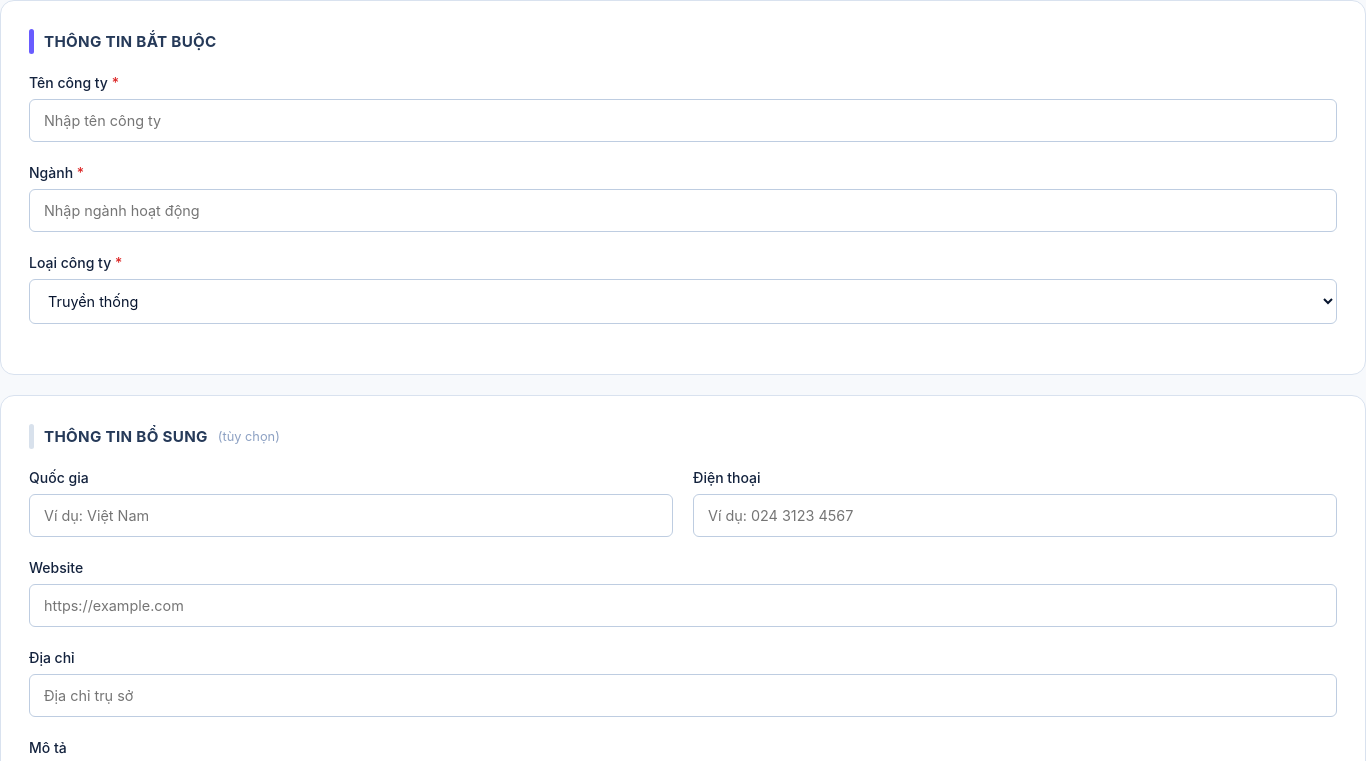
Test: CompanyForm › does not submit blank name and keeps entered industry
Type "Software" into the field labelled "Ngành *". click: (683, 210)
box: [29,189,1337,232]
(page scrolled)
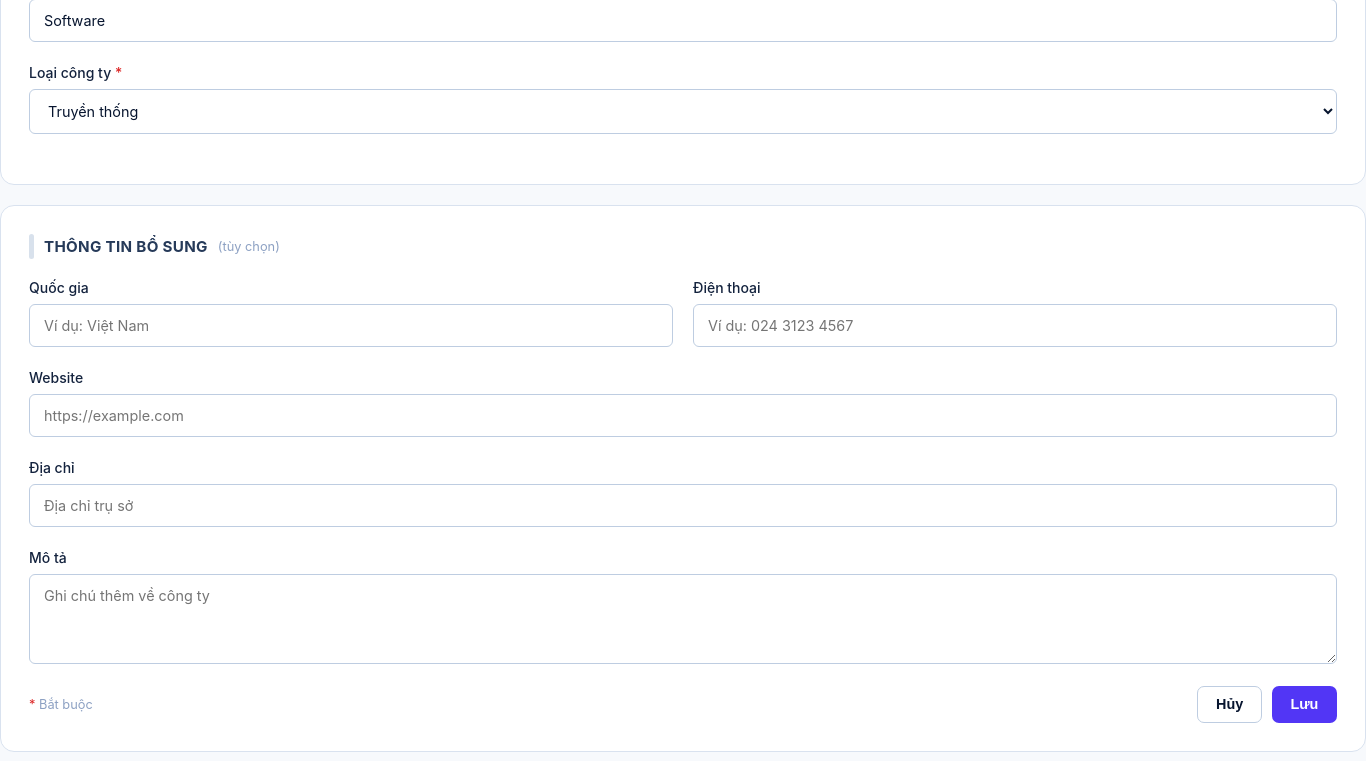
Click the button "Lưu". click: (1304, 705)
box: [1272,686,1337,723]
(page scrolled)
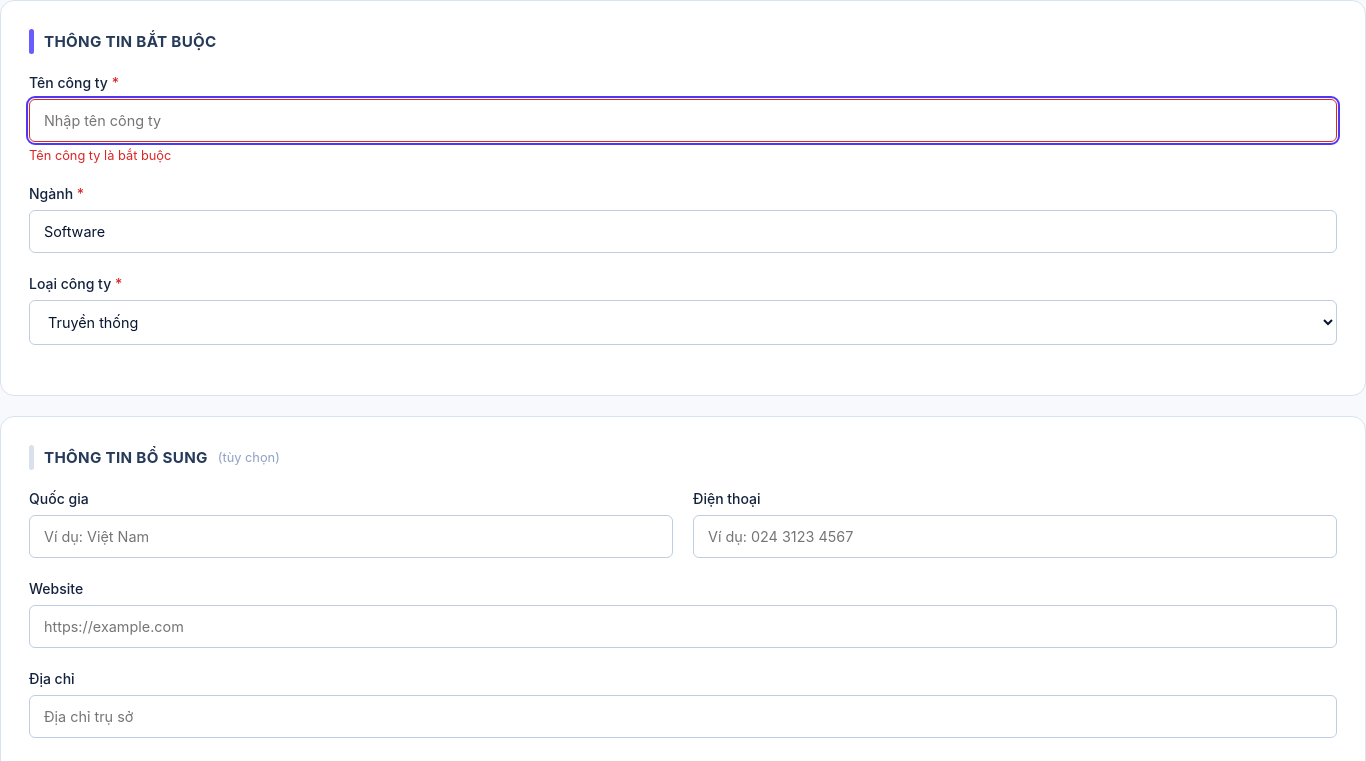
Expected: the text "Tên công ty là bắt buộc" is shown, [29,148,171,163]
